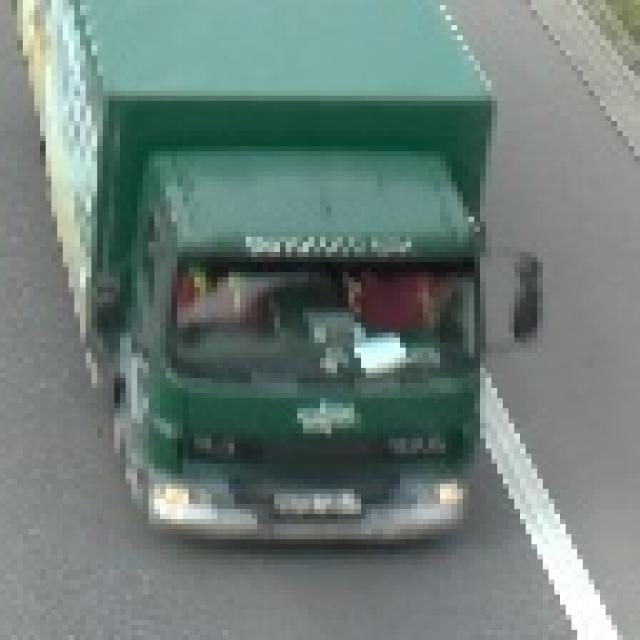truck: (17, 0, 537, 554)
